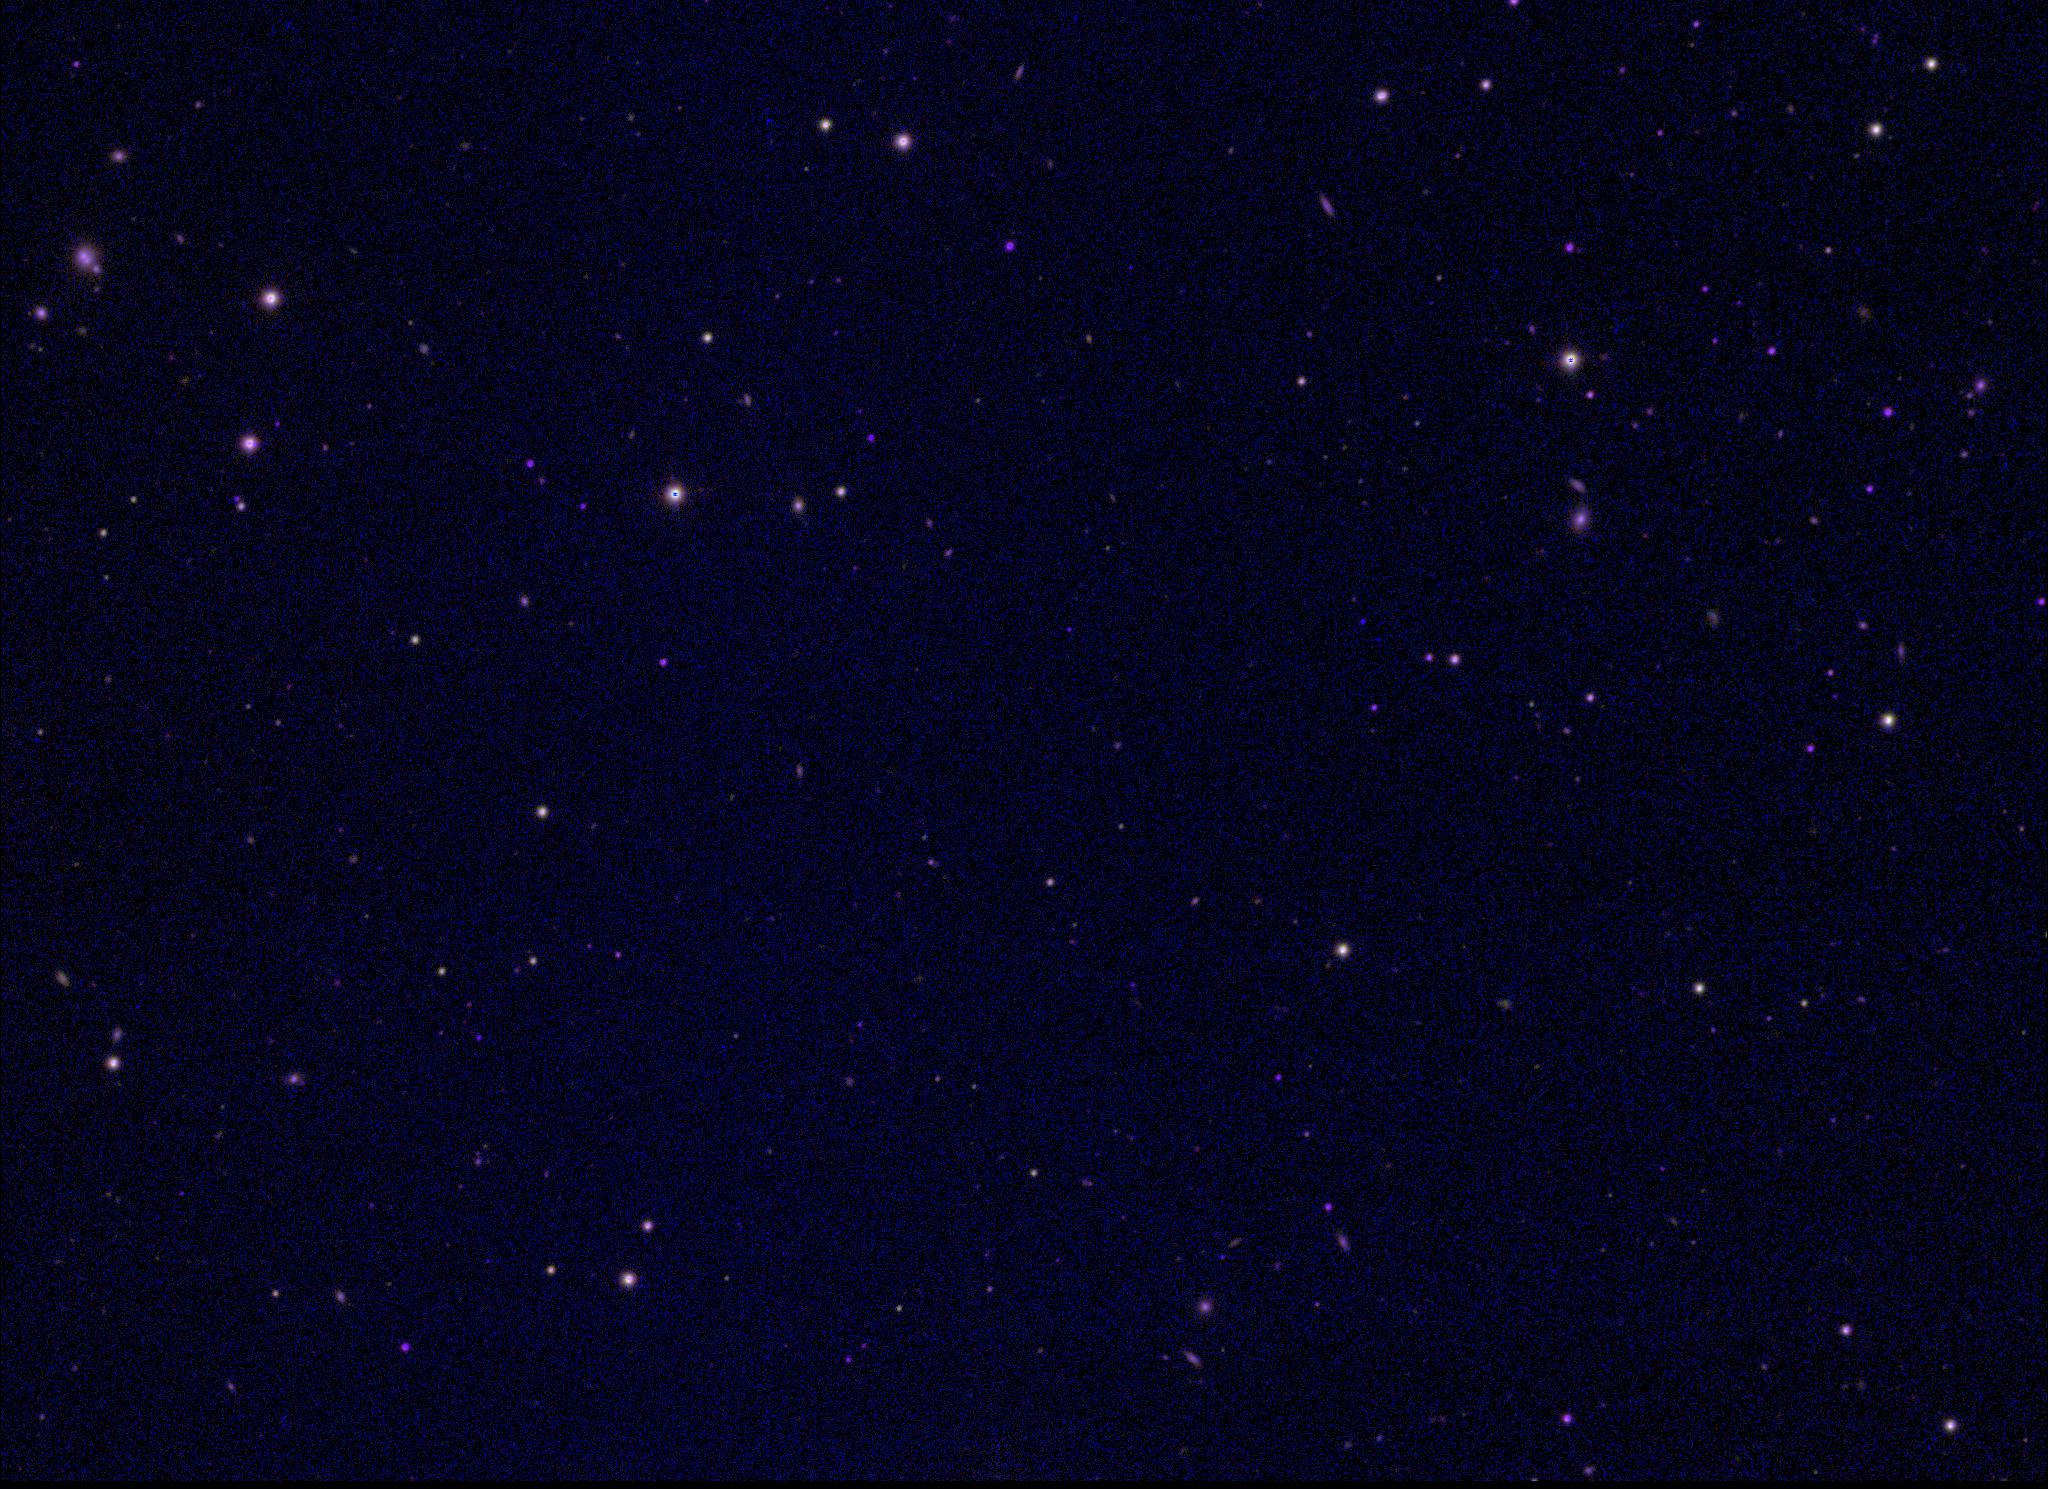L: (1355, 616, 1367, 628)
